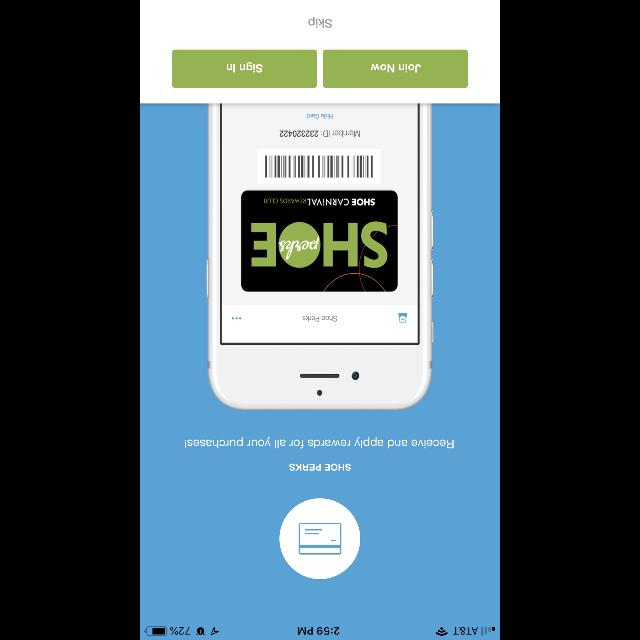icon: (280, 498, 360, 578)
image: (206, 104, 434, 410)
text: (184, 438, 453, 448), (289, 464, 351, 471), (308, 16, 332, 28)
textbutton: (322, 50, 468, 88), (172, 50, 316, 88)
uppertaskbar: (140, 626, 500, 640)
